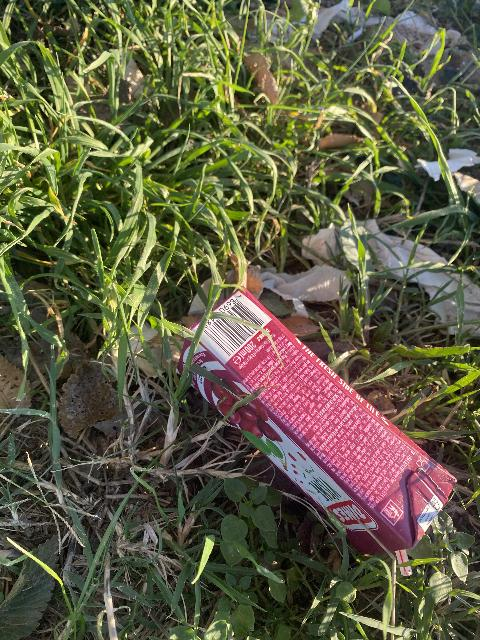Kagit: (165, 284, 459, 551)
Organik: (33, 132, 162, 224)
Plastik: (378, 554, 443, 579)
